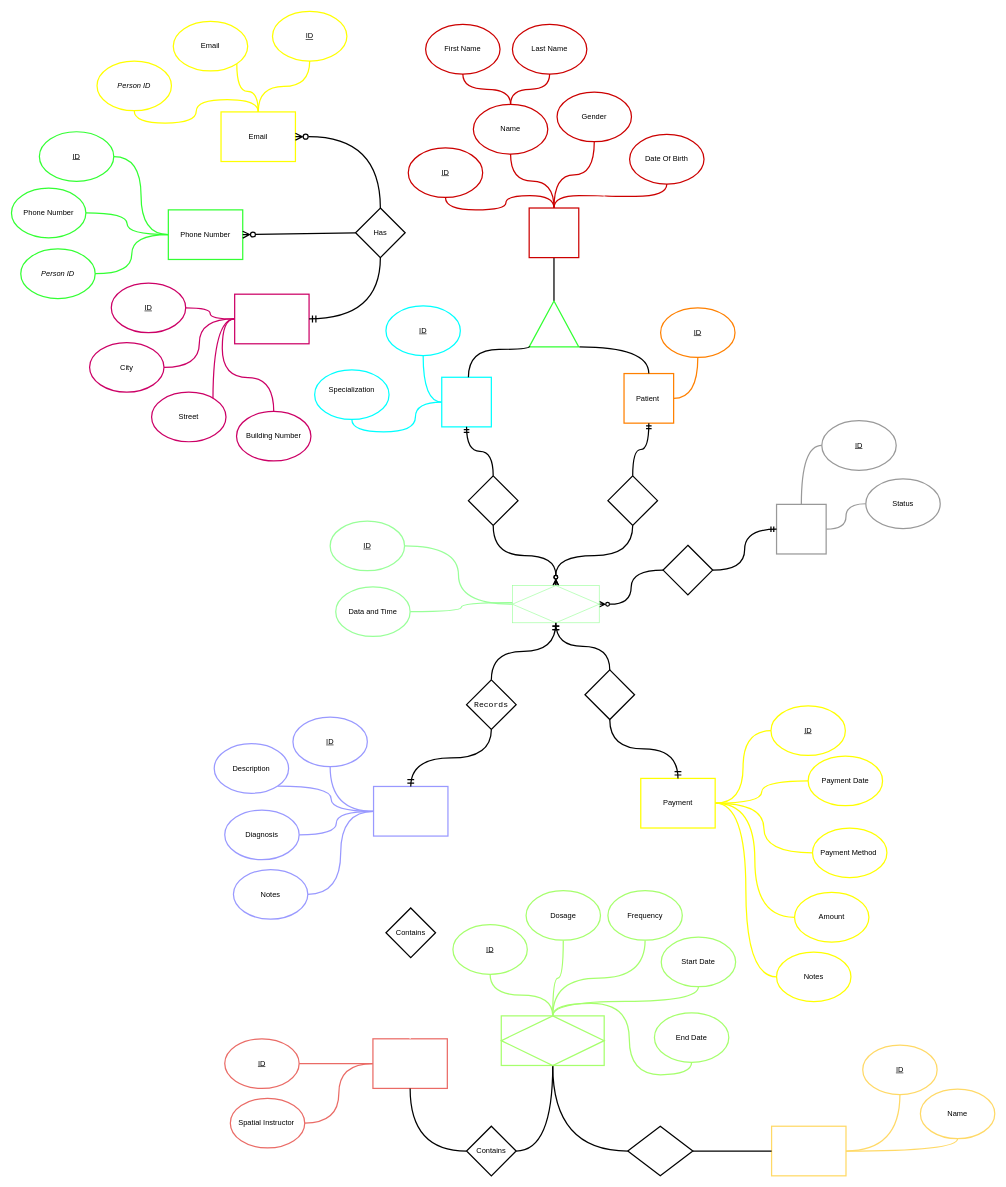
Image size: 1006x1187. Some labels were removed from this diagram. Here are the shapes that lost their labels. From the top down, the box of each, then its label:
(528, 207, 579, 258): Person
(234, 293, 309, 344): Address
(528, 300, 579, 347): IS A
(441, 376, 492, 427): Doctor
(607, 475, 658, 526): Attends
(776, 503, 826, 554): Appointment Status
(512, 585, 599, 623): Appointment
(584, 669, 635, 720): Covers
(373, 786, 448, 836): Medical Record
(500, 1015, 604, 1066): Prescription Medication
(372, 1038, 448, 1089): Prescription
(771, 1125, 846, 1176): Medication
